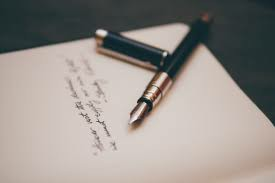pen: (128, 11, 208, 125)
